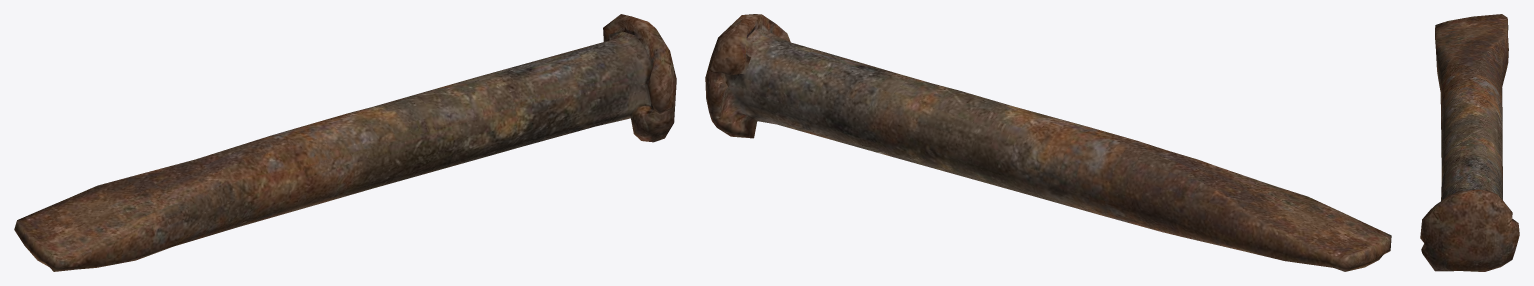
File: stake.glb
The picture shows the model from 3 angles, left to right: view 1: azimuth 30°, elevation 25°; view 2: azimuth 150°, elevation 25°; view 3: azimuth 270°, elevation 25°; orthographic projection. The views are drawn at different scales.
Visible parts, largest first — view 1: Aset_misc__S_tl2effiva_00_LOD4; view 2: Aset_misc__S_tl2effiva_00_LOD4; view 3: Aset_misc__S_tl2effiva_00_LOD4.
Boxes of the visible parts, x1=… form: Aset_misc__S_tl2effiva_00_LOD4: x1=14, y1=14, x2=676, y2=271; Aset_misc__S_tl2effiva_00_LOD4: x1=705, y1=14, x2=1391, y2=271; Aset_misc__S_tl2effiva_00_LOD4: x1=1420, y1=14, x2=1519, y2=271.
Bounding box in the file's own units: 0.18 × 0.0286 × 0.0315.
1 material, 1 textured.
